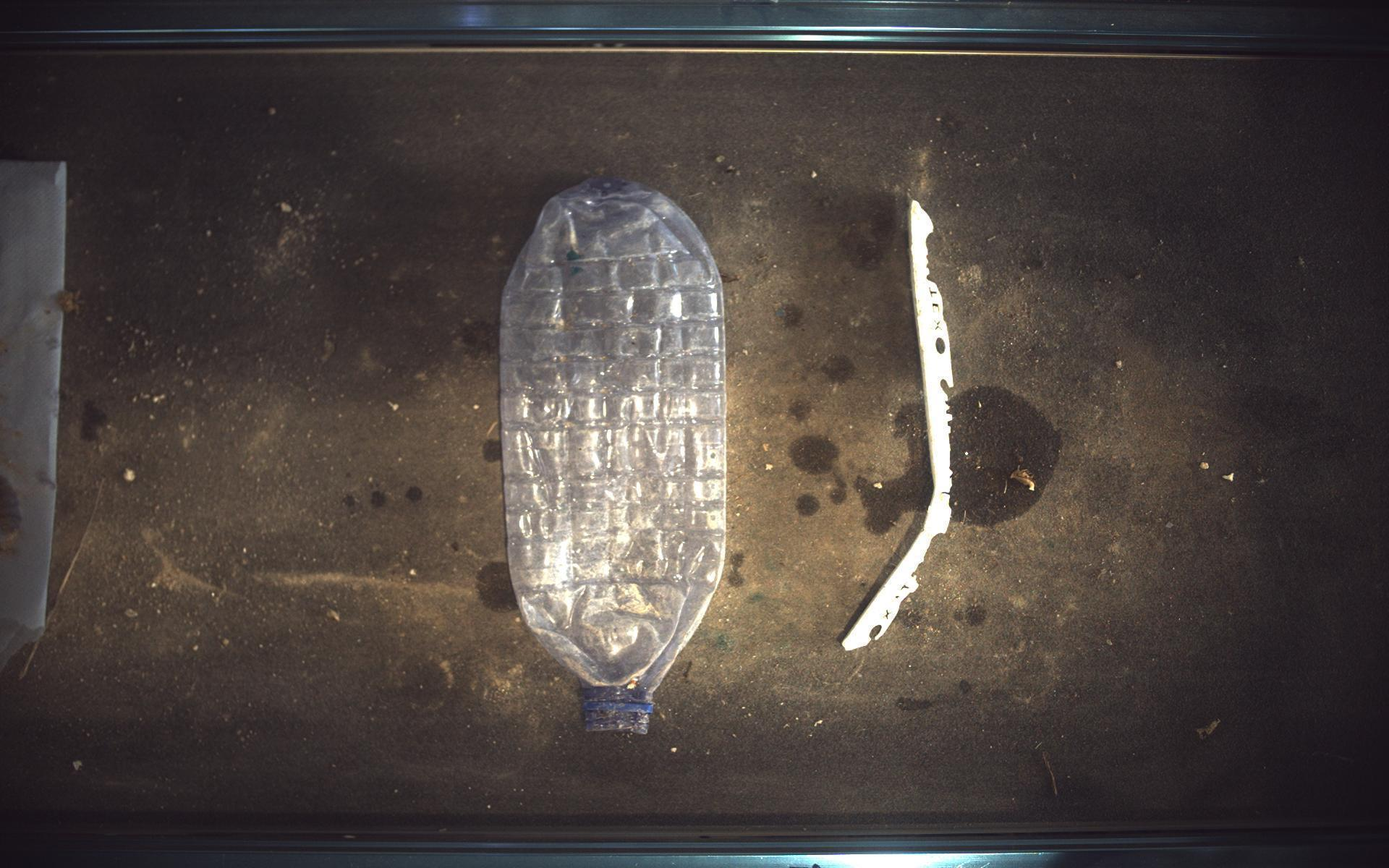general_w: (501, 177, 727, 733)
plastic: (843, 199, 956, 652)
